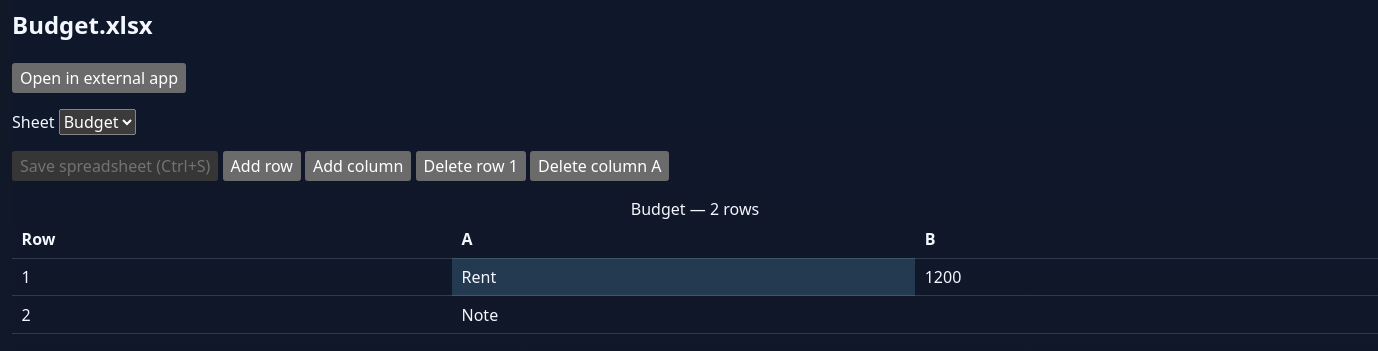
it: spreadsheet preview › offers a sheet picker for multi-sheet workbooks
Expected: the cell named "Row 1, column A, Rent" is shown, [452,258,915,296]
Select "Second" in the dropdown labelled "Sheet": (97, 122) [59,109,136,135]
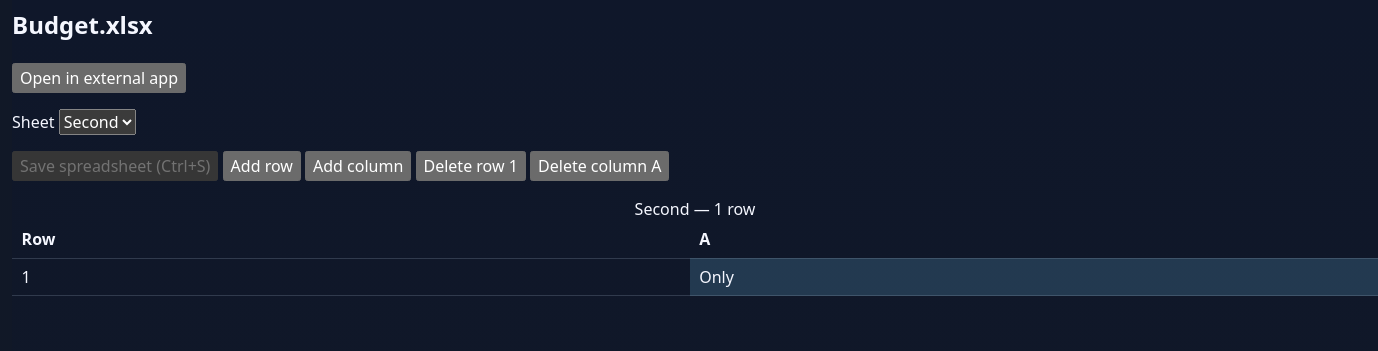
Expected: the cell named "Row 1, column A, Only" is shown, [690,258,1377,296]
